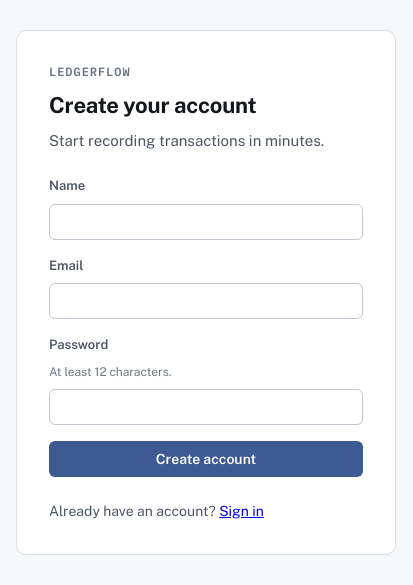
Test: RegisterPage › shows field-level validation errors returned by the API
This screenshot has width=413, height=585.
Type "Ada Lovelace" into the field labelled "Name" at (206, 222), box [49, 204, 363, 240]
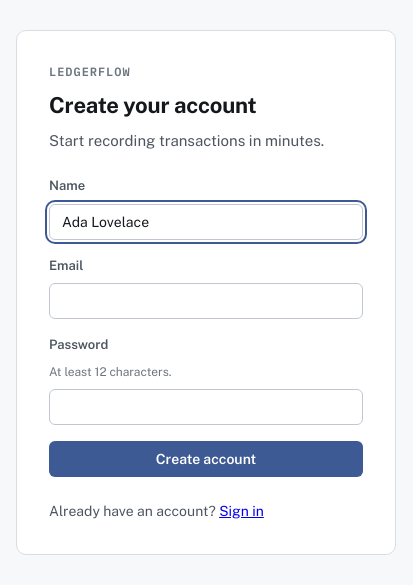
Type "bad" into the field labelled "Email" at (206, 301), box [49, 283, 363, 319]
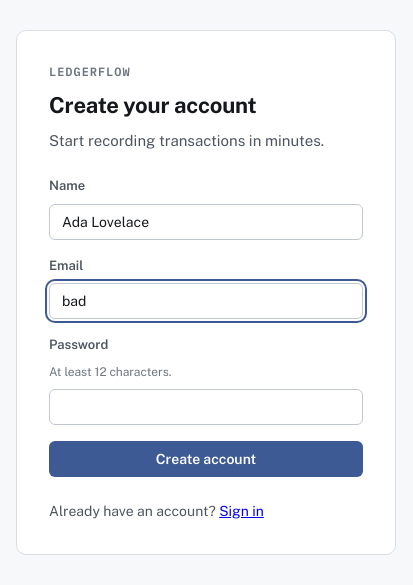
Type "correct-horse-battery" into the password field labelled "Password" at (206, 406), box [49, 388, 363, 424]
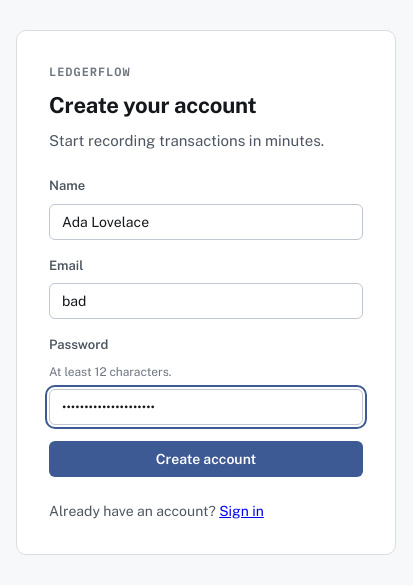
Click the button "Create account" at (206, 458), box [49, 440, 363, 476]
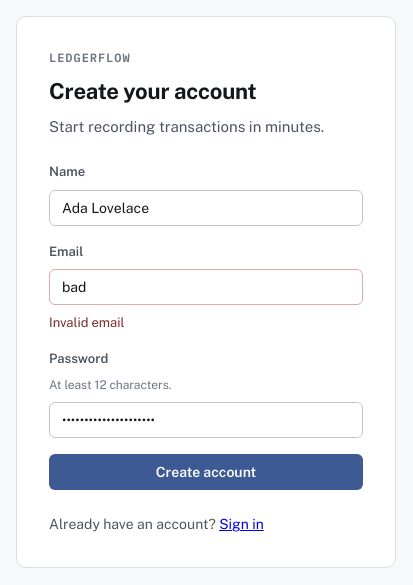
Expected: the text "Invalid email" is shown, [49, 315, 124, 330]
